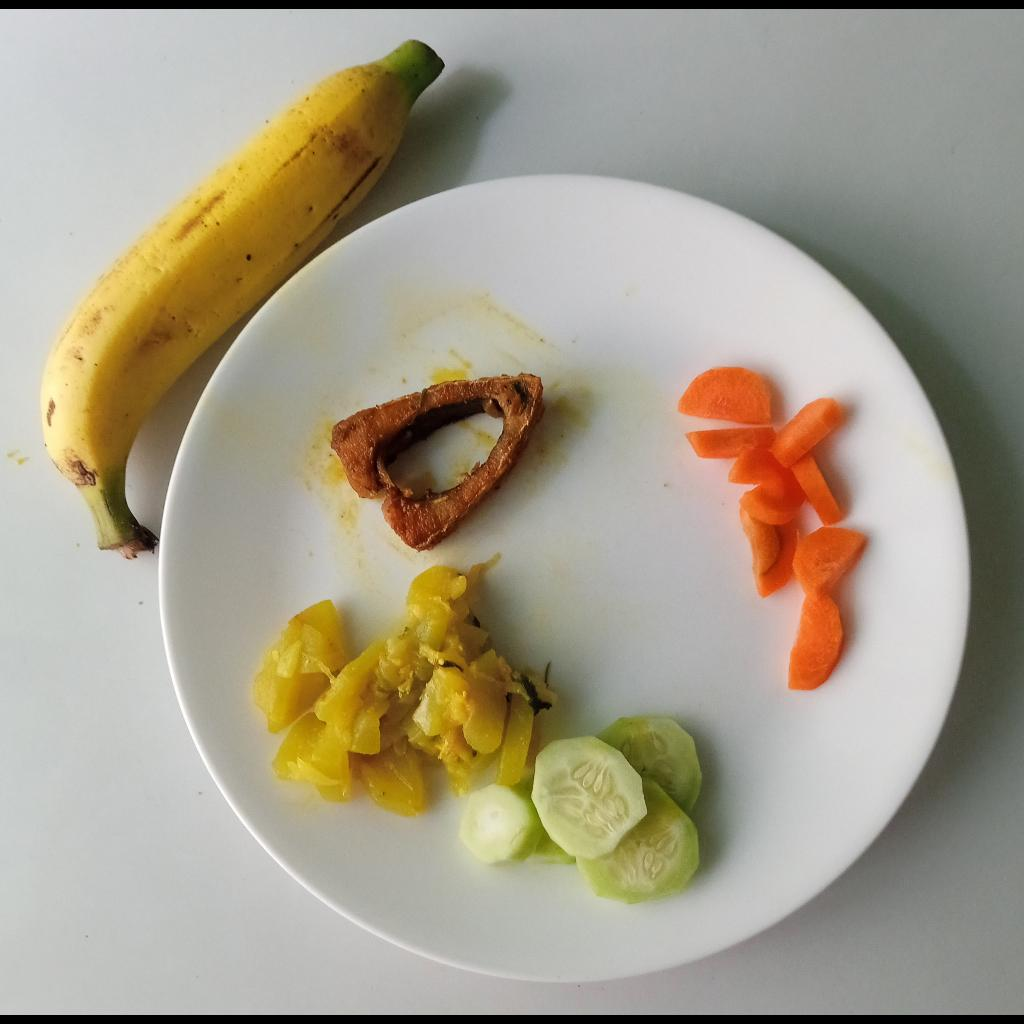banana: (38, 35, 445, 543)
carrot: (673, 368, 871, 691)
cucumber: (458, 713, 705, 904)
fish: (330, 375, 543, 554)
kumra-vaji: (254, 563, 557, 822)
